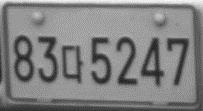2: (115, 35, 137, 86)
3: (36, 35, 58, 82)
4: (139, 35, 165, 86)
5: (90, 36, 112, 85)
7: (166, 36, 190, 85)
8: (13, 34, 34, 81)
다: (60, 44, 84, 83)
